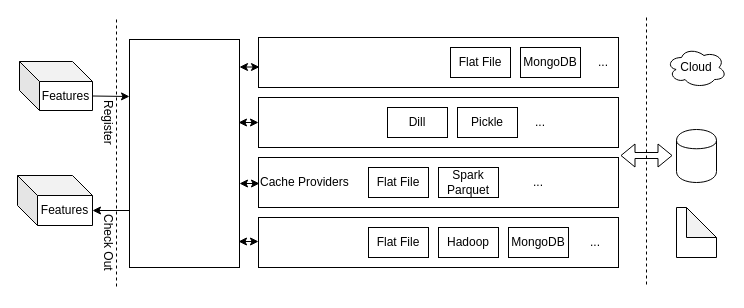
Some shapes in this 744 by 308 pixel diagram are drawn without their labels. The shapes that lost their labels are listed below. From the top down, each one's box as (x1, y1, x2, y2) in pixels, then its label:
(258, 36, 618, 88): Meta Data Management Providers
(258, 96, 618, 148): Serialization Providers
(128, 38, 240, 268): Feature Store Core APIs
(676, 128, 716, 182): DB
(258, 216, 618, 268): Persister Providers
(676, 206, 716, 258): FlatFile
